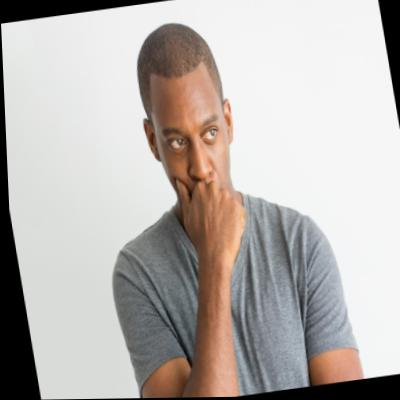sad: (149, 71, 235, 204)
